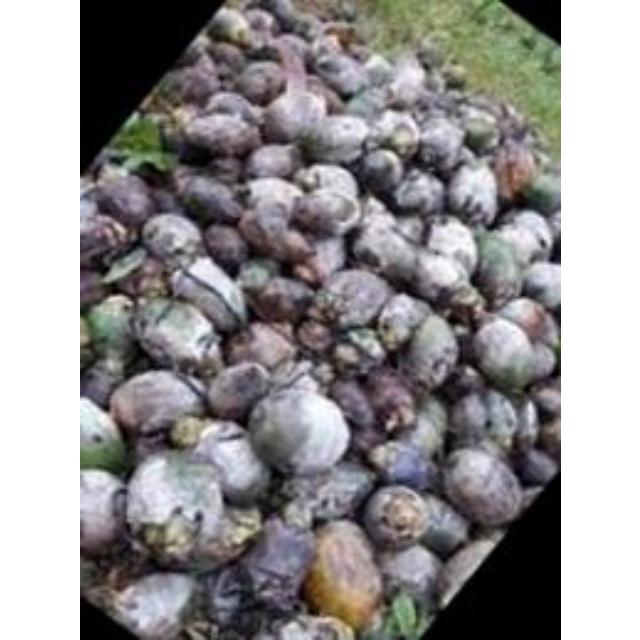damaged: (124, 451, 234, 565), (245, 392, 357, 472), (303, 518, 381, 630), (234, 516, 316, 606), (132, 298, 225, 376), (108, 369, 204, 439), (440, 446, 522, 526), (285, 462, 369, 524), (349, 214, 418, 282), (398, 312, 458, 388), (318, 268, 392, 328), (85, 294, 139, 370), (204, 359, 272, 419), (300, 111, 372, 165), (360, 369, 418, 435), (226, 322, 298, 373), (367, 439, 437, 491), (470, 231, 520, 303), (406, 248, 468, 306), (262, 88, 326, 144), (444, 162, 500, 224), (177, 175, 245, 225), (493, 211, 552, 267), (248, 274, 314, 324), (421, 218, 479, 274), (140, 212, 202, 264), (374, 292, 430, 348), (495, 296, 555, 348), (395, 398, 445, 460), (414, 115, 466, 168), (390, 167, 444, 217), (114, 252, 170, 298), (296, 163, 360, 203), (369, 109, 421, 158), (327, 376, 375, 429), (242, 174, 304, 214), (200, 222, 248, 270), (244, 142, 300, 182), (358, 146, 404, 194), (519, 261, 559, 311), (461, 108, 501, 152), (294, 316, 334, 352), (238, 259, 276, 293), (390, 212, 426, 245), (357, 192, 391, 226), (290, 258, 322, 288)
